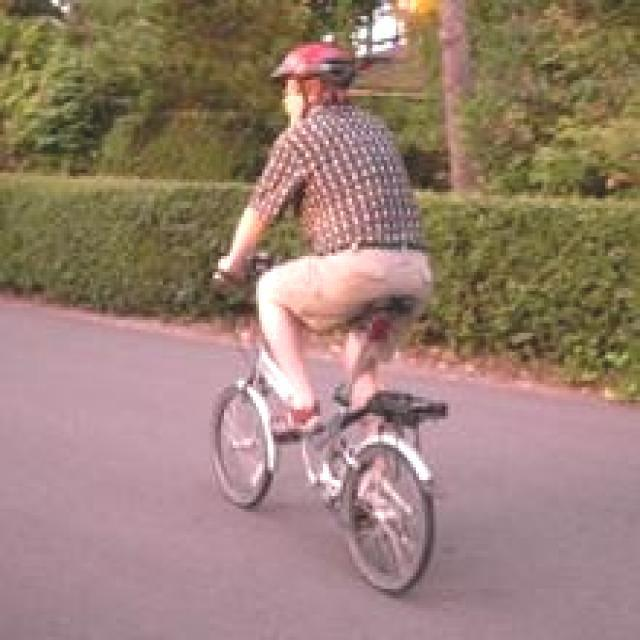no_vest: (269, 103, 436, 268)
